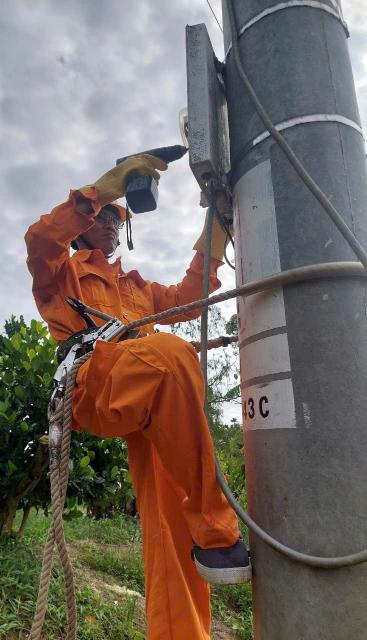gloves: (79, 144, 193, 203), (188, 177, 243, 272)
harness: (36, 313, 205, 364)
helmet: (65, 167, 134, 227)
shoes: (180, 501, 270, 605)
